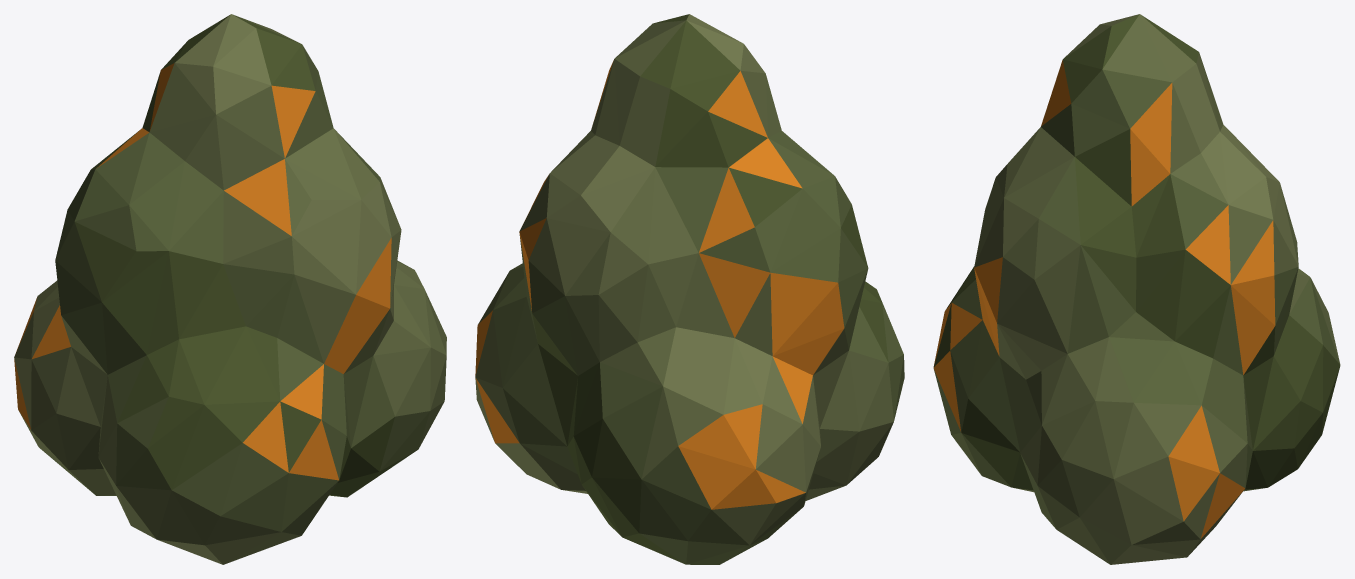
File: bud-5g.glb
3 renders of one model, left to right at view 1: azimuth 30°, elevation 25°; view 2: azimuth 150°, elevation 25°; view 3: azimuth 270°, elevation 25°, orthographic.
Parts seen in each view (by area): view 1: BudMaster_5g; view 2: BudMaster_5g; view 3: BudMaster_5g.
Part boxes in pixels (bbox=[...]): BudMaster_5g: bbox=[14, 14, 446, 564]; BudMaster_5g: bbox=[475, 14, 904, 564]; BudMaster_5g: bbox=[933, 14, 1340, 564].
Bounding box in the file's own units: 0.0637 × 0.0827 × 0.0607.
